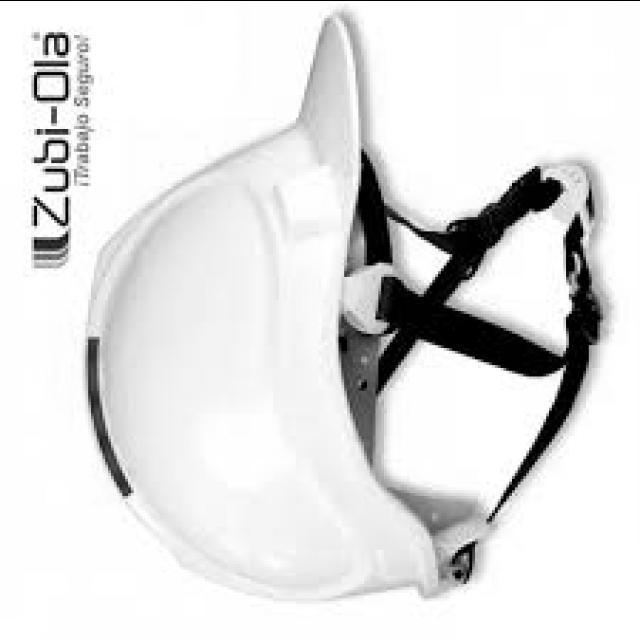safety_helmet: (85, 11, 603, 600)
